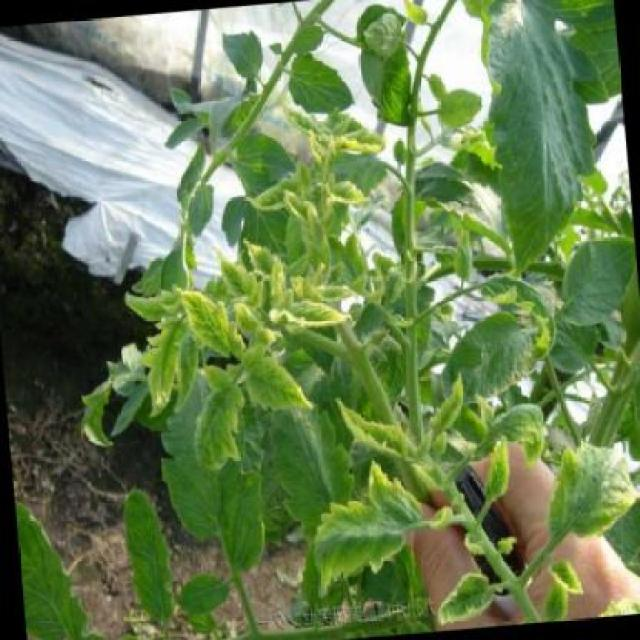Healthy Leaf: (291, 461, 433, 603), (527, 435, 640, 561), (331, 383, 437, 487), (234, 340, 319, 420), (189, 371, 252, 477), (461, 392, 549, 458), (179, 284, 243, 363), (433, 566, 498, 631), (279, 291, 356, 340), (325, 170, 374, 217)
